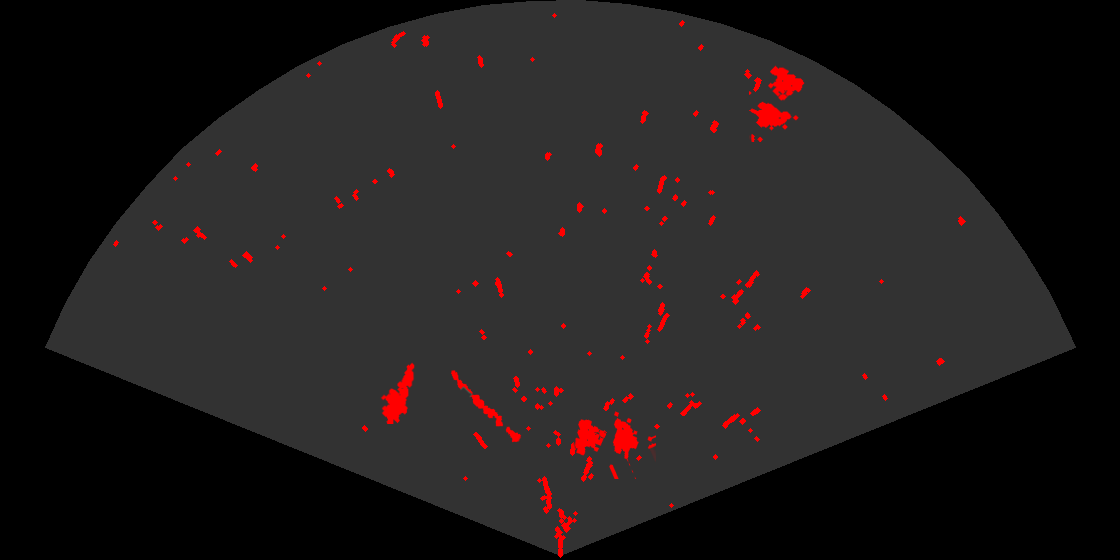cage: (573, 410, 656, 479), (749, 64, 806, 142)
chain: (449, 369, 523, 444)
frogman: (379, 361, 416, 424)
